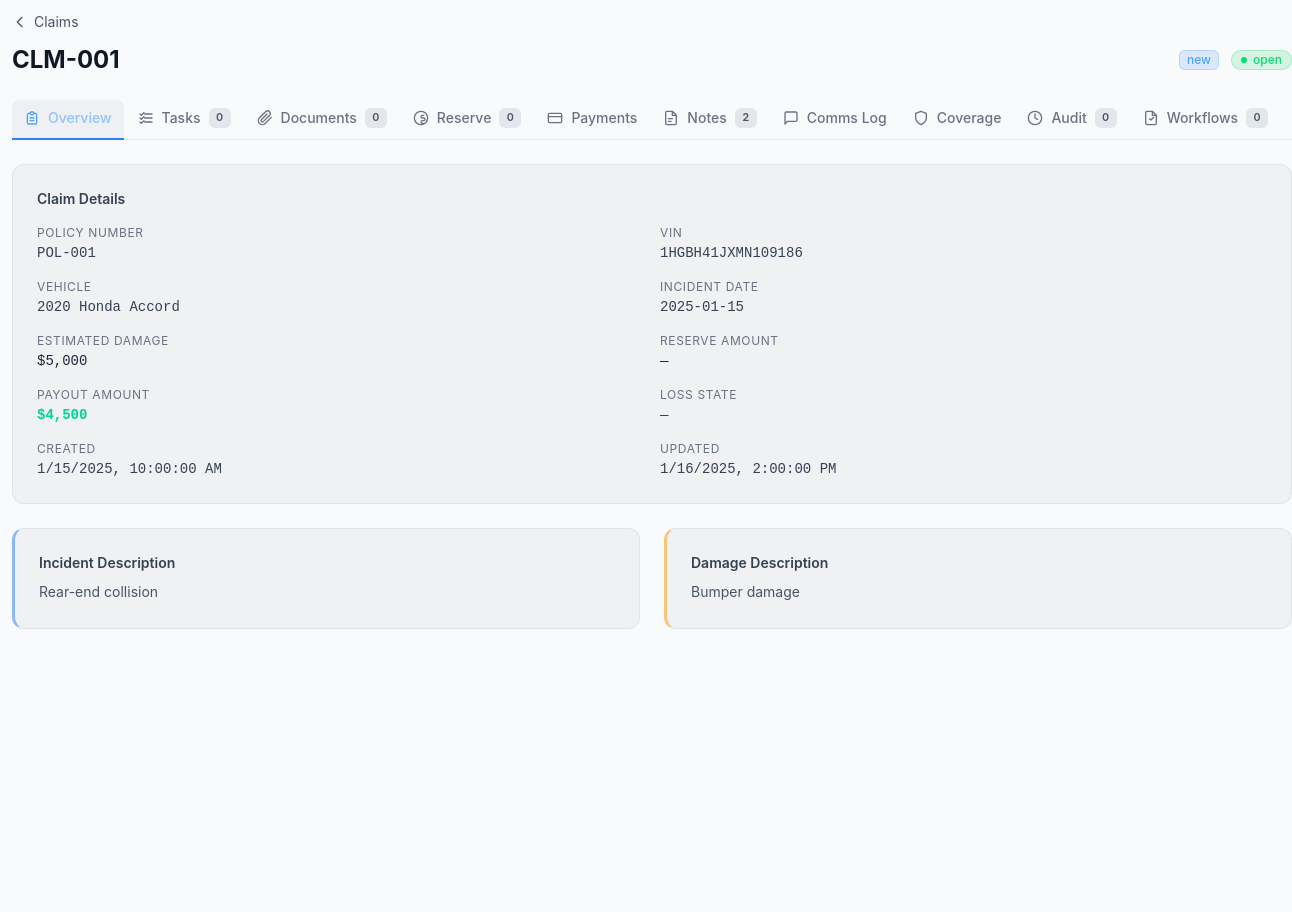
Test case: ClaimDetail › shows notes and follow-up messages in notes tab
What coordinates should you click on to do the following:
click the tab "Notes 2"
I would click on:
 (710, 120)
Its box is [651,100,769,140].
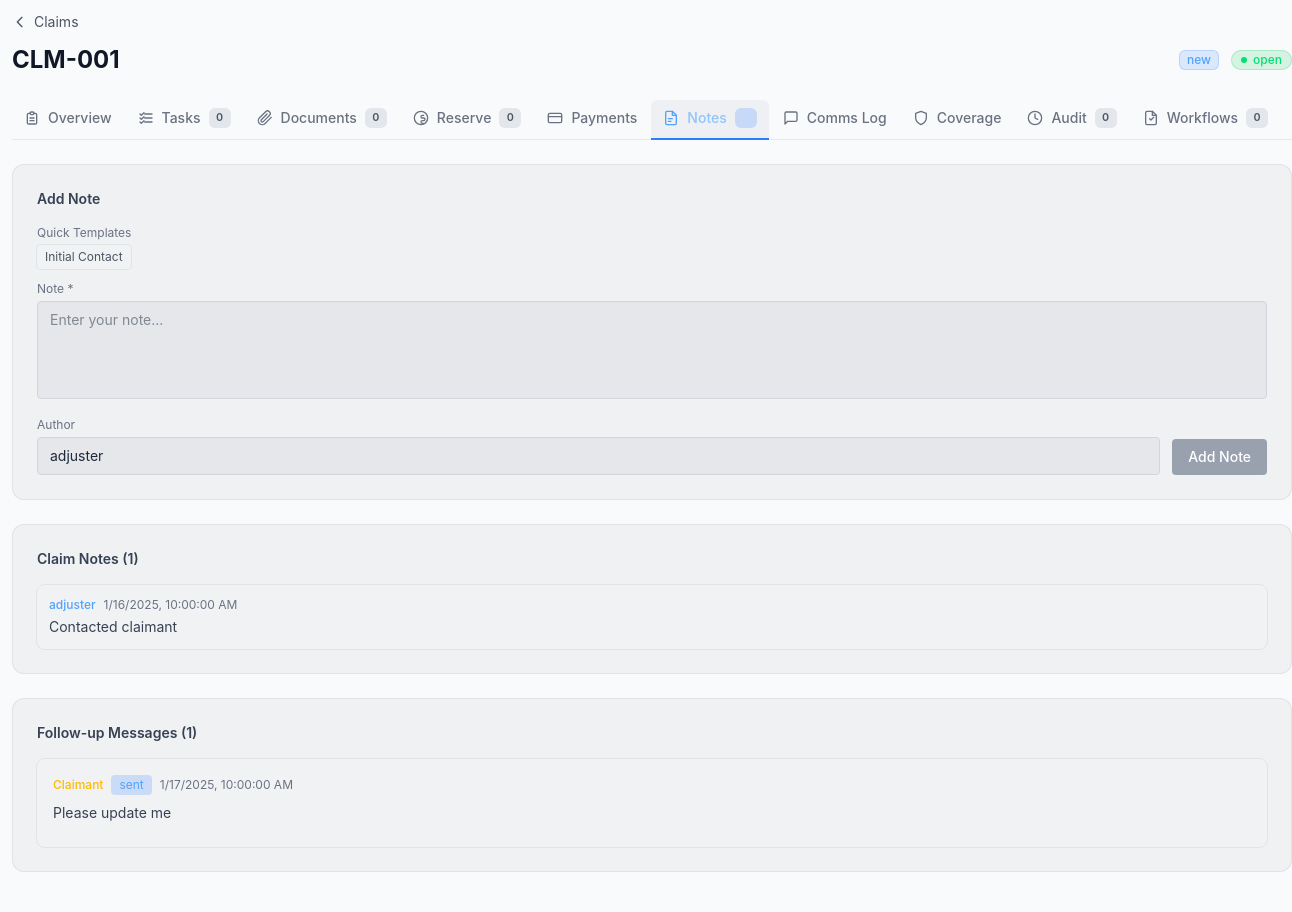
expect the text "Contacted claimant" is shown: met, box [49,618,177,635]
expect the text "Please update me" is shown: met, box [53,804,171,821]
